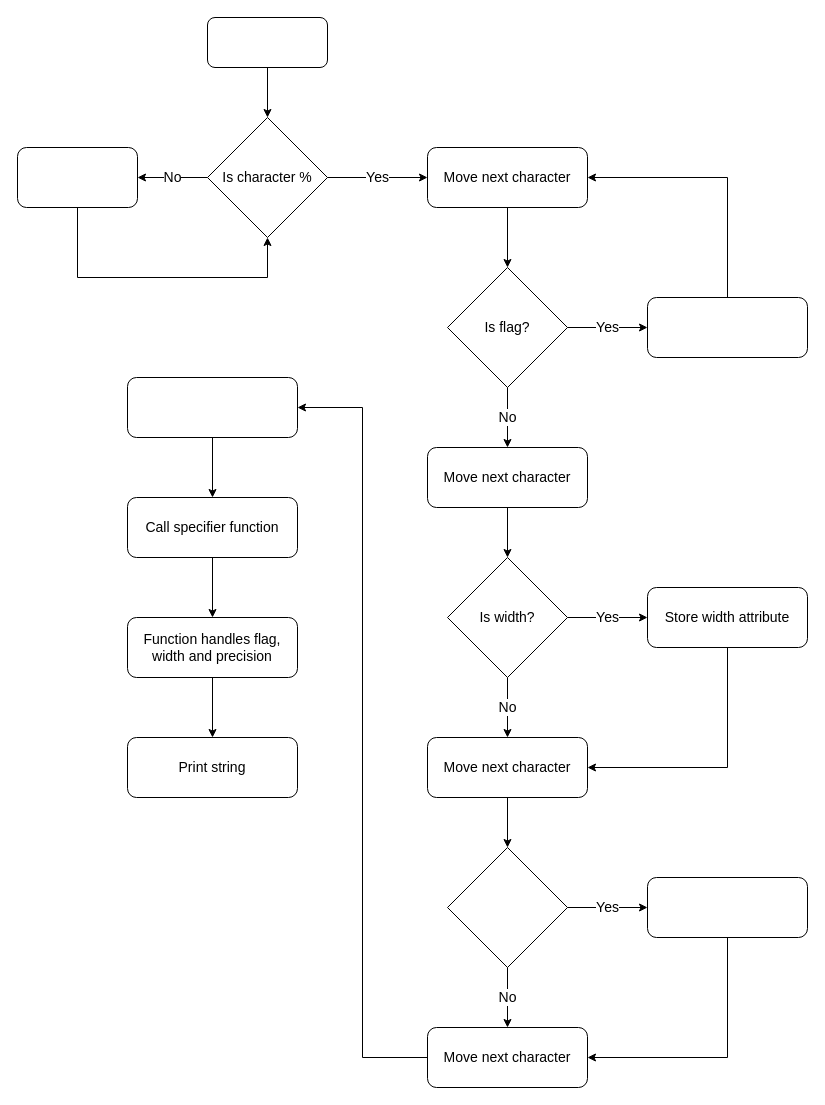
Some shapes in this 825 by 1105 pixel diagram are drawn without their labels. The shapes that lost their labels are listed below. From the top down, each one's centre as x and y in pixels, then its label:
At point 267,42: "Iterate through string".
At point 77,177: "Print character".
At point 727,327: "Store flag attribute".
At point 212,407: "Check specifier".
At point 507,907: "Is precision".
At point 727,907: "Store precision attribute".
